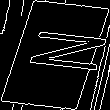N_E: (5, 30, 105, 80)
